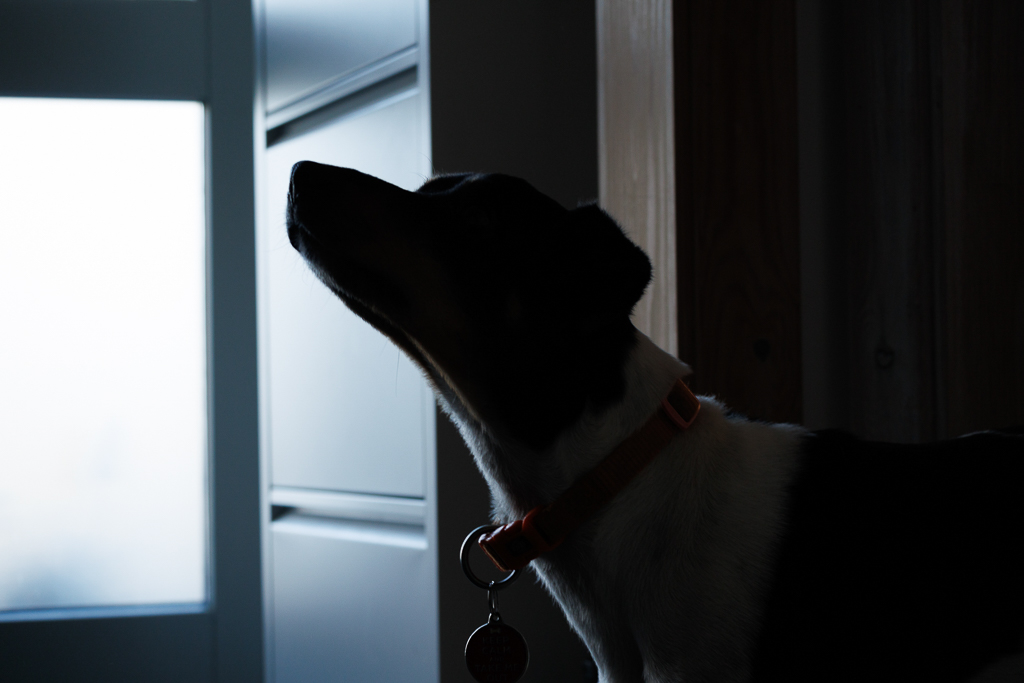Dog: (275, 149, 1024, 683)
